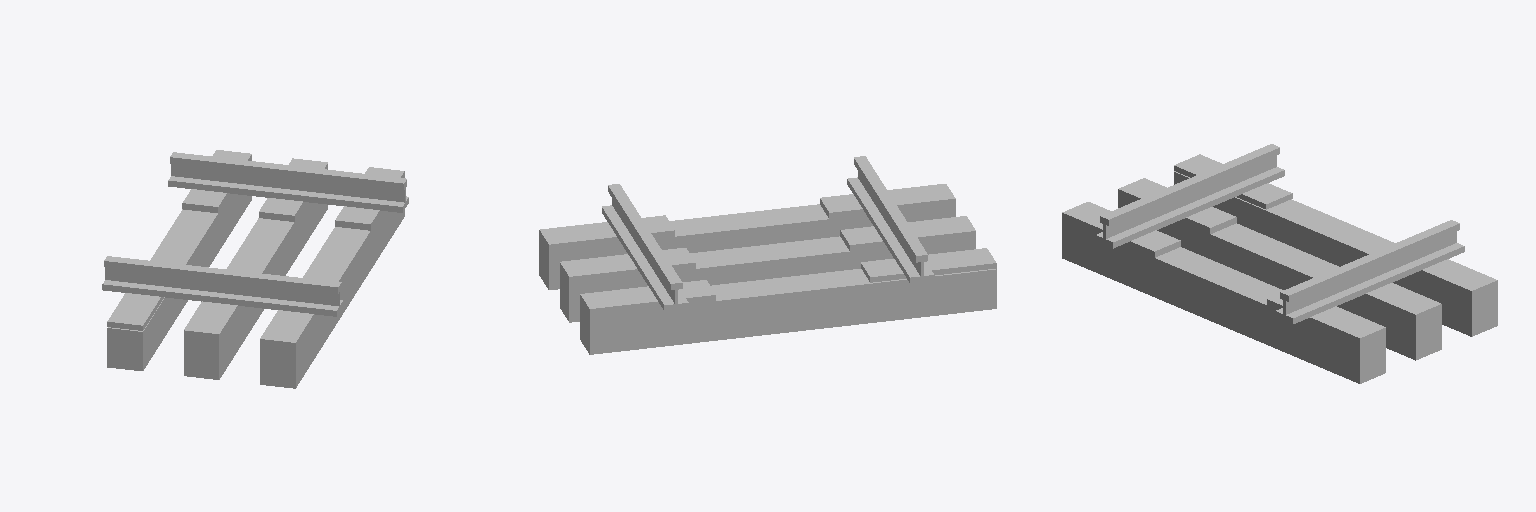
The model's file is diag.obj.
3 views of the same model, side by side, from view 1: azimuth 30°, elevation 25°; view 2: azimuth 150°, elevation 25°; view 3: azimuth 270°, elevation 25° (orthographic).
Visible parts, largest first — view 1: cube, tie2, tie3, tie1; view 2: cube, tie3, tie1, tie2; view 3: cube, tie3, tie1, tie2.
Boxes of the visible parts, x1,y1,x2,y2 form: cube: [107, 150, 404, 388]; tie2: [105, 164, 405, 305]; tie3: [104, 152, 406, 293]; tie1: [102, 176, 408, 316]; cube: [539, 184, 996, 354]; tie3: [608, 156, 927, 289]; tie1: [602, 177, 933, 310]; tie2: [612, 171, 923, 303]; cube: [1062, 154, 1497, 383]; tie3: [1100, 144, 1459, 301]; tie1: [1096, 167, 1464, 323]; tie2: [1103, 155, 1456, 314].
Size of the model in its own units: 2.59 by 0.4738 by 2.59.